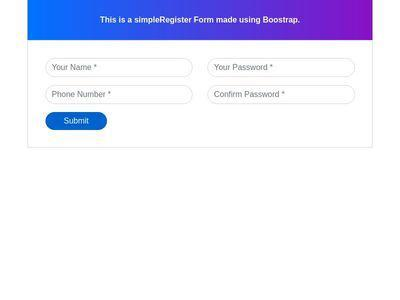button: (45, 111, 110, 132)
input: (46, 57, 194, 77), (209, 86, 357, 105), (45, 86, 193, 104), (211, 60, 356, 77)
